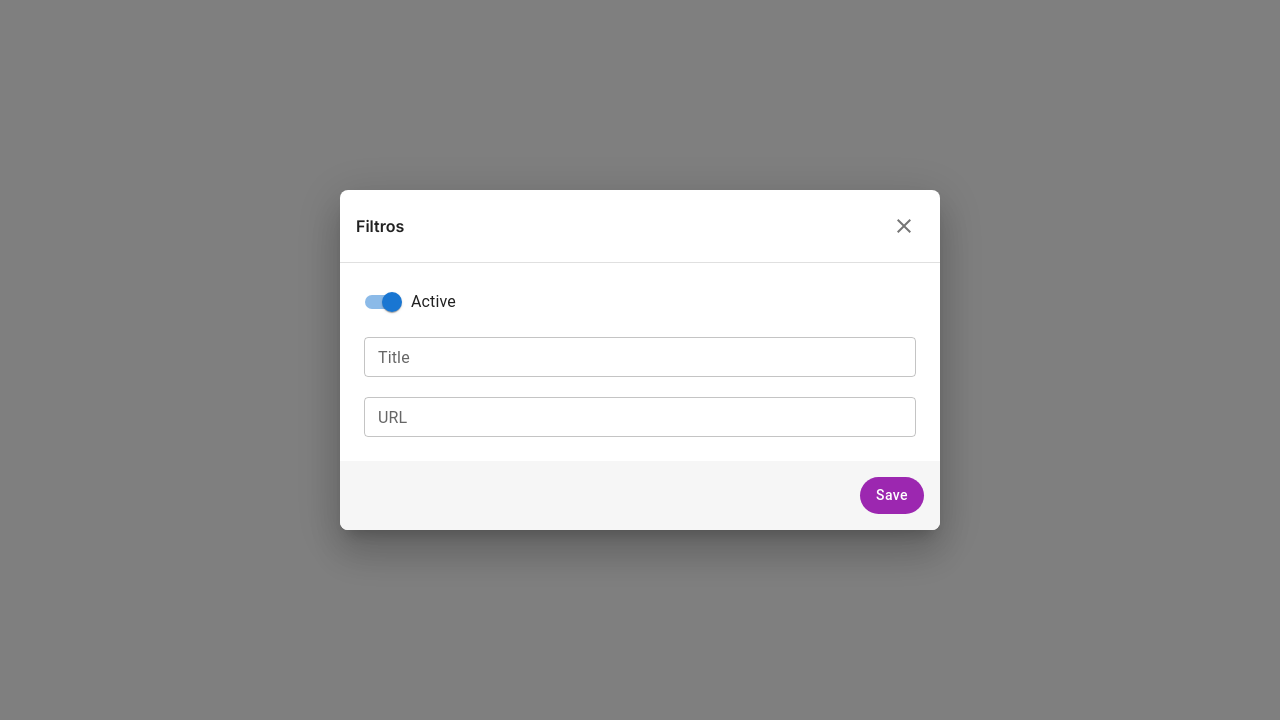
Test: LinkForm › validates URL format
Type "invalid-url" into the field labelled "URL" at (640,417), box [364,397,916,437]
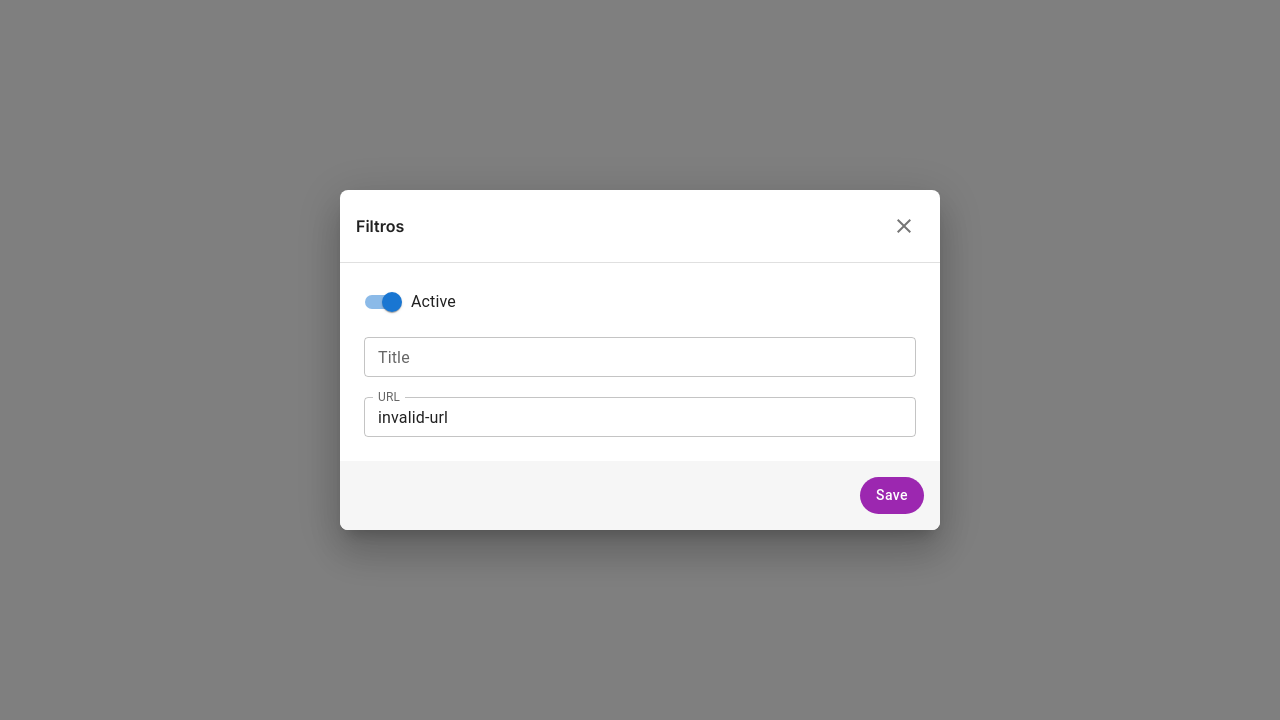
Click the button "Save" at (892,496), box [860,477,924,514]
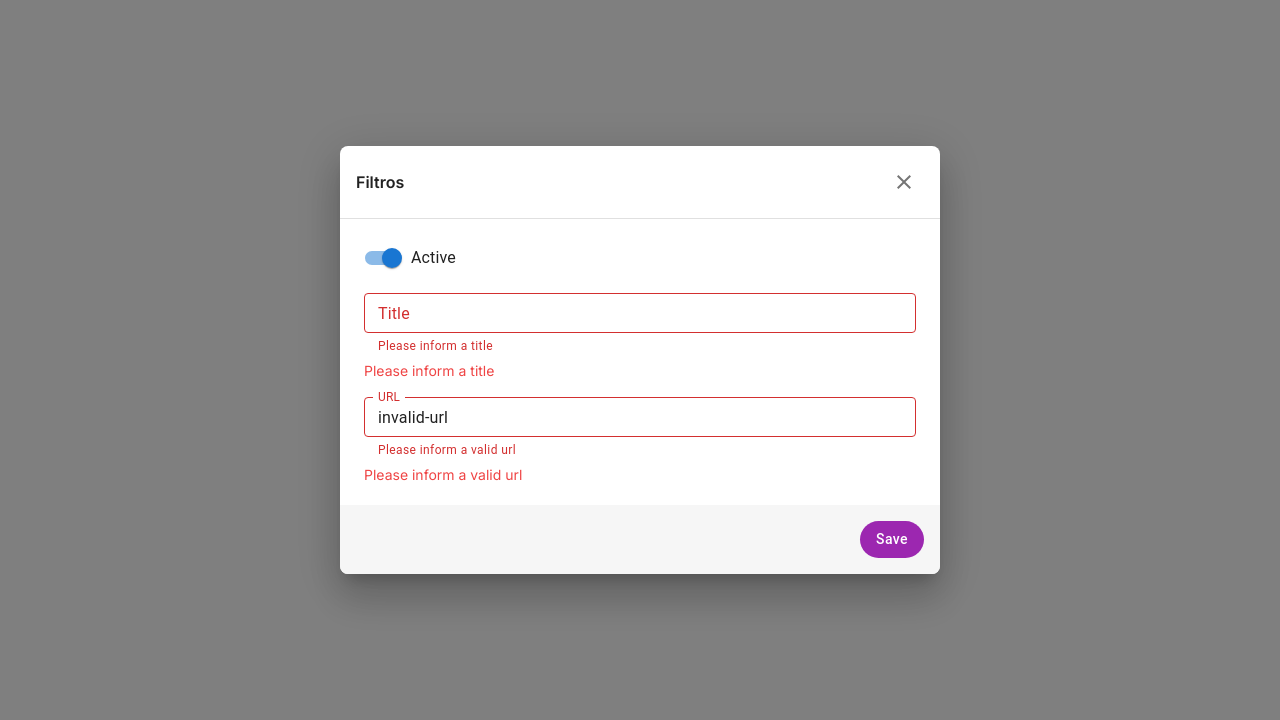
Expected: the text with test id "title-error" reads "Please inform a title", [364,362,494,379]
Expected: the text with test id "url-error" reads "Please inform a valid url", [364,466,522,483]
